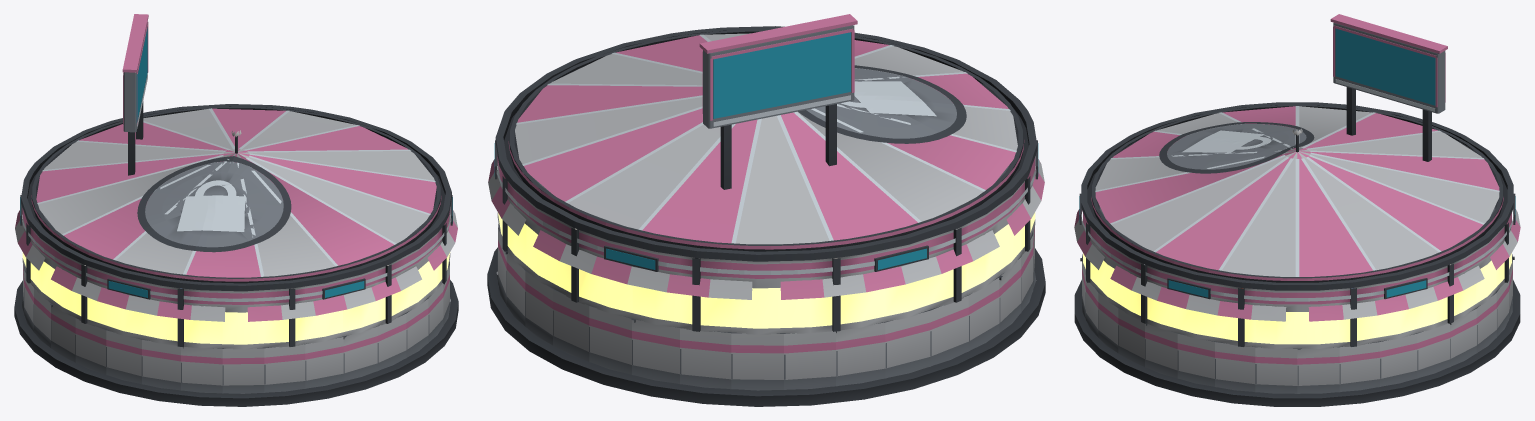
The model's file is retail_s_far.glb.
The picture shows the model from 3 angles, left to right: view 1: azimuth 30°, elevation 25°; view 2: azimuth 150°, elevation 25°; view 3: azimuth 270°, elevation 25°; orthographic projection. The views are drawn at different scales.
Visible parts, largest first — view 1: Roof, Base; view 2: Roof, Base; view 3: Roof, Base.
Part boxes in pixels (left/top/right/bottom): Roof: left=15, top=14, right=457, bottom=349; Base: left=14, top=261, right=458, bottom=406; Roof: left=488, top=14, right=1044, bottom=334; Base: left=487, top=224, right=1045, bottom=406; Roof: left=1074, top=14, right=1520, bottom=348; Base: left=1074, top=254, right=1520, bottom=406.
Bounding box in the file's own units: 11.74 × 7.36 × 11.76.
